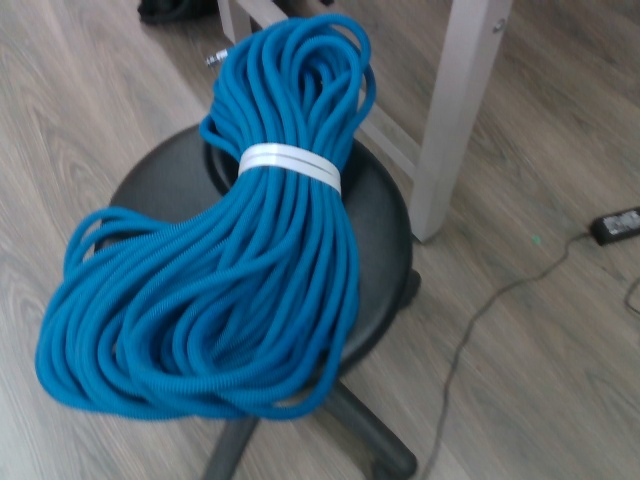rope: (29, 8, 382, 430)
